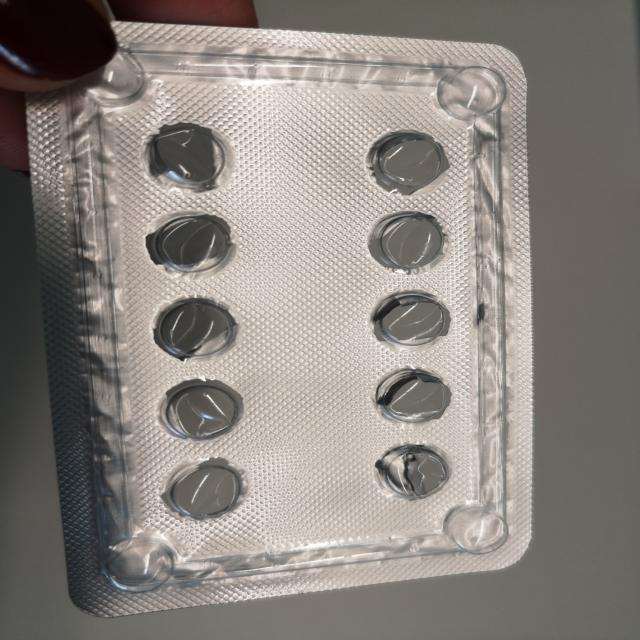Empty: (143, 209, 240, 280), (137, 122, 236, 191), (156, 376, 249, 445), (152, 294, 242, 360), (366, 128, 451, 197), (365, 210, 453, 274), (157, 458, 247, 520), (372, 364, 457, 428), (370, 442, 456, 504), (368, 290, 456, 348)
